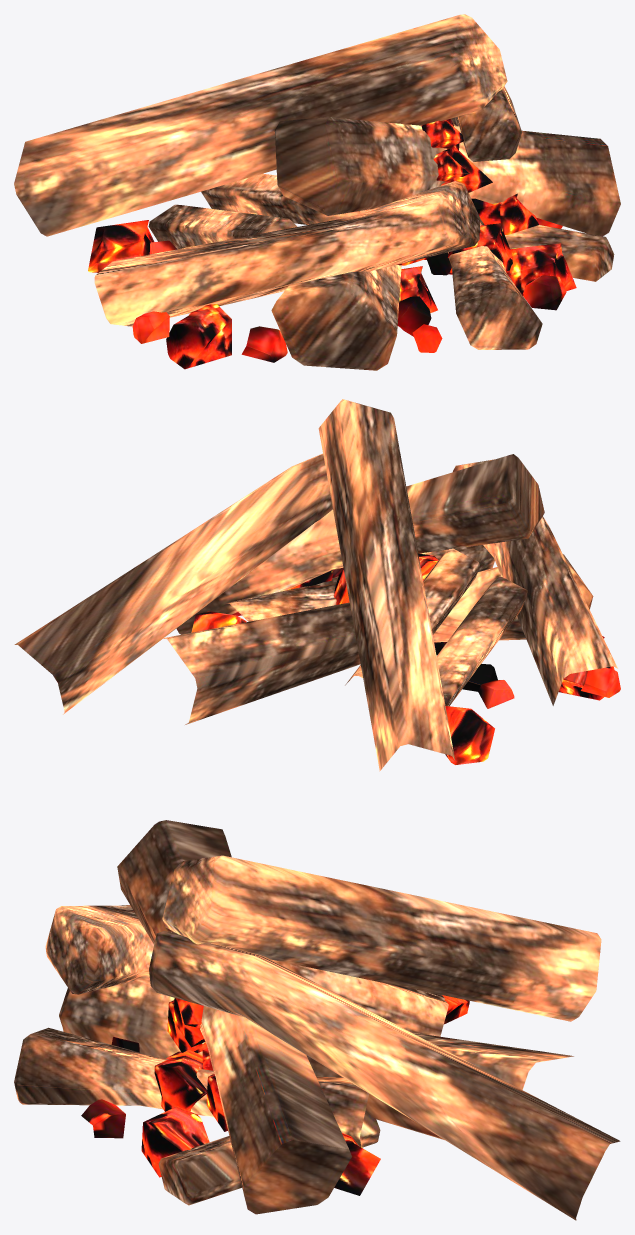
File: firewood.glb
The picture shows the model from 3 angles, top to bottom: view 1: azimuth 30°, elevation 25°; view 2: azimuth 150°, elevation 25°; view 3: azimuth 270°, elevation 25°; orthographic projection. The views are drawn at different scales.
Parts seen in each view (by area): view 1: firewood_combined.1; view 2: firewood_combined.1; view 3: firewood_combined.1.
Part boxes in pixels (x1,y1,x2,y2): firewood_combined.1: (14,14,620,370); firewood_combined.1: (14,399,620,771); firewood_combined.1: (14,820,620,1220).
Size of the model in its own units: 1.76 by 0.8516 by 1.65.
Materials: 1 (1 with a texture image).
